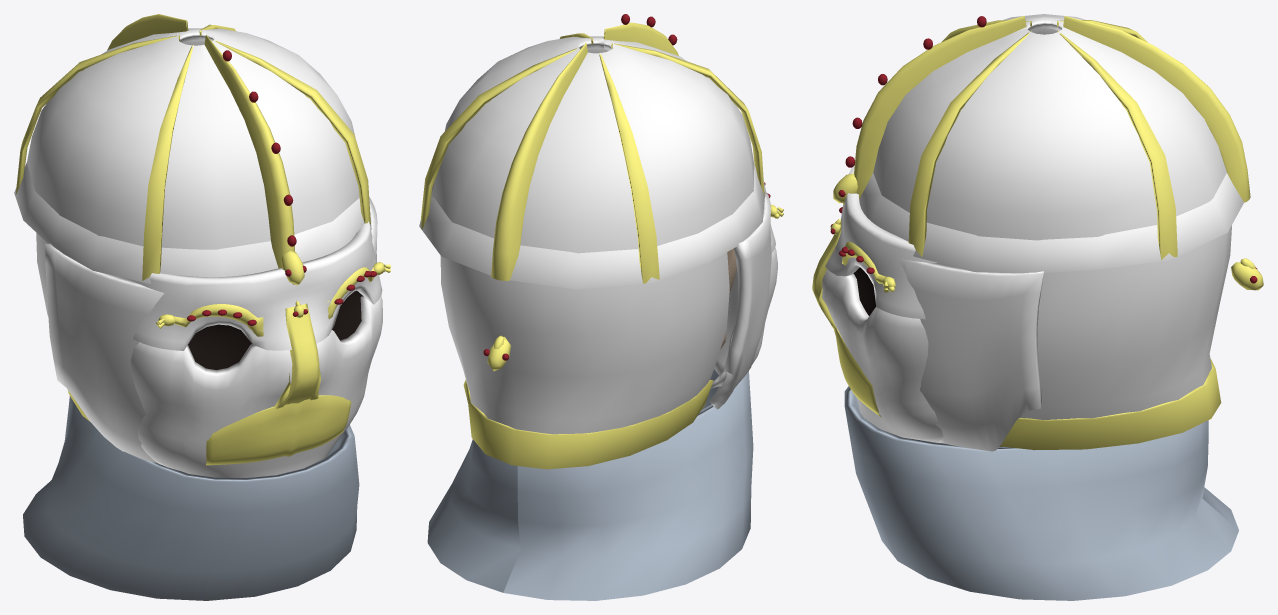
Rendered from helm-runekeeper-suttonhoo.glb.
The picture shows the model from 3 angles, left to right: view 1: azimuth 30°, elevation 25°; view 2: azimuth 150°, elevation 25°; view 3: azimuth 270°, elevation 25°; orthographic projection. The views are drawn at different scales.
Visible parts, largest first — view 1: helm-runekeeper-suttonhoo; view 2: helm-runekeeper-suttonhoo; view 3: helm-runekeeper-suttonhoo.
Boxes of the visible parts, x1=… form: helm-runekeeper-suttonhoo: x1=14, y1=14, x2=390, y2=600; helm-runekeeper-suttonhoo: x1=419, y1=14, x2=783, y2=600; helm-runekeeper-suttonhoo: x1=812, y1=14, x2=1263, y2=600.
Bounding box in the file's own units: 0.2421 × 0.388 × 0.302.
